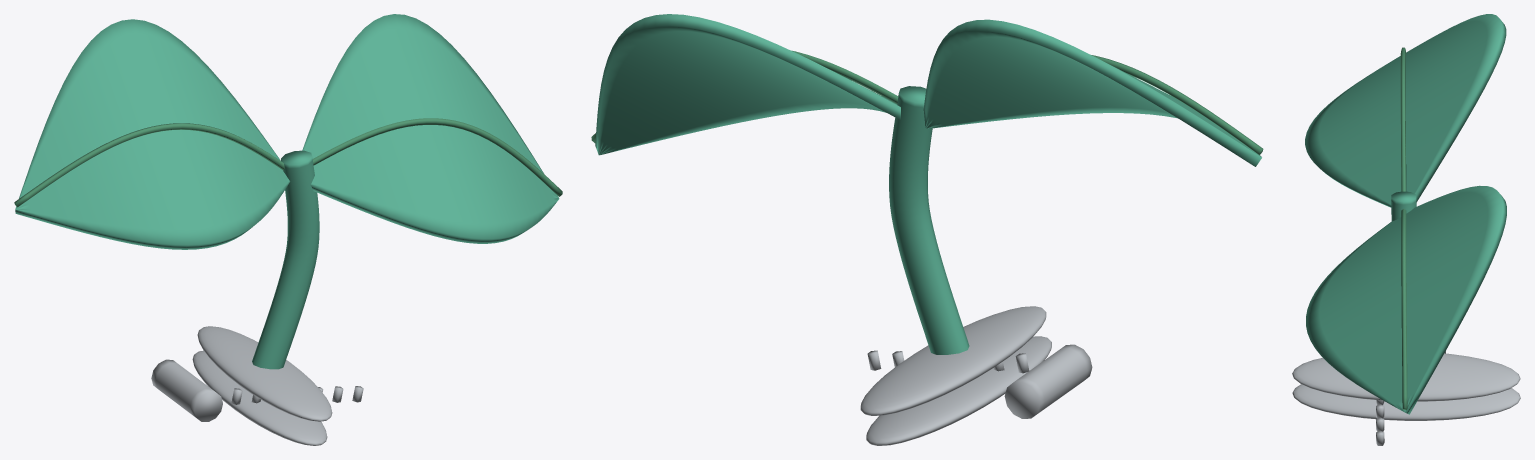
File: Masculine-afro-pashmina249-sprout.glb
The picture shows the model from 3 angles, left to right: view 1: azimuth 30°, elevation 25°; view 2: azimuth 150°, elevation 25°; view 3: azimuth 270°, elevation 25°; orthographic projection. The views are drawn at different scales.
Visible parts, largest first — view 1: 226 extra / Accessory / mint226, 226 extra / Sprout / clip silver235, 226 extra / Sprout / leaf vein235; view 2: 226 extra / Accessory / mint226, 226 extra / Sprout / clip silver235, 226 extra / Sprout / leaf vein235; view 3: 226 extra / Accessory / mint226, 226 extra / Sprout / clip silver235, 226 extra / Sprout / leaf vein235.
Boxes of the visible parts, x1,y1,x2,y2 form: 226 extra / Accessory / mint226: [15, 14, 559, 369]; 226 extra / Sprout / clip silver235: [151, 326, 363, 445]; 226 extra / Sprout / leaf vein235: [14, 118, 562, 207]; 226 extra / Accessory / mint226: [595, 14, 1261, 354]; 226 extra / Sprout / clip silver235: [860, 306, 1092, 445]; 226 extra / Sprout / leaf vein235: [591, 50, 1263, 155]; 226 extra / Accessory / mint226: [1305, 14, 1506, 414]; 226 extra / Sprout / clip silver235: [1292, 351, 1520, 445]; 226 extra / Sprout / leaf vein235: [1400, 47, 1407, 409].
Size of the model in its own units: 0.2656 by 0.1732 by 0.104.
